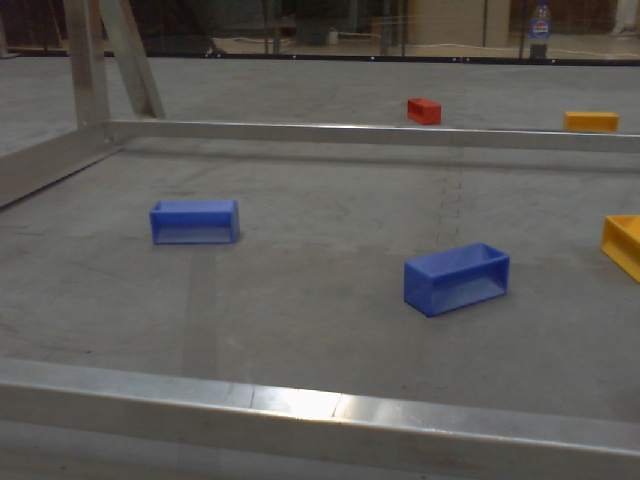BlueSample: (401, 241, 512, 320), (147, 194, 244, 248)
RedSample: (405, 96, 442, 127)
YellowSample: (597, 209, 640, 284), (561, 108, 621, 133)
